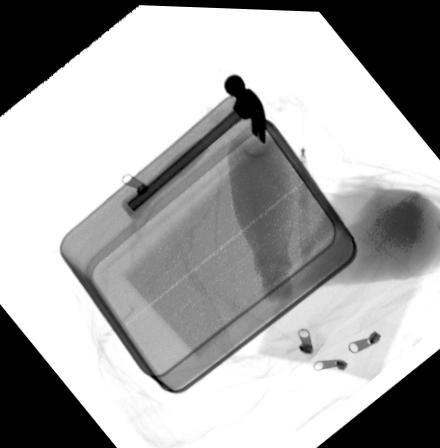Hammer: (119, 70, 268, 220)
